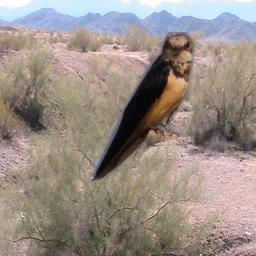Swallow: (91, 32, 194, 186)
